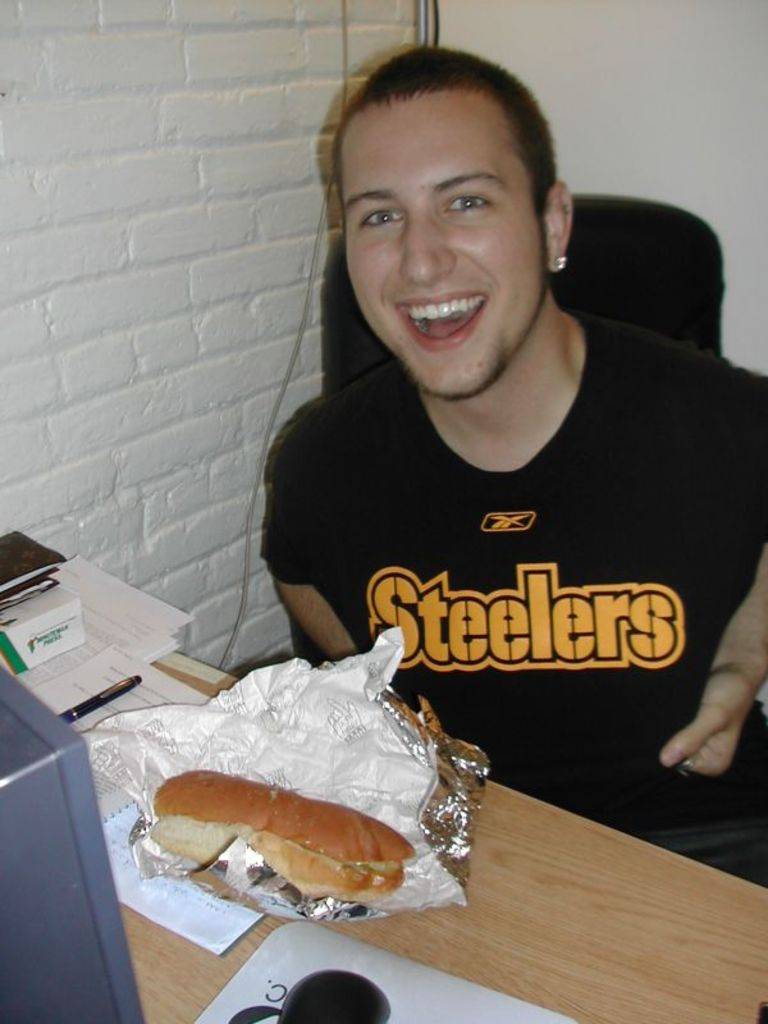hot_dog: (133, 748, 438, 899)
